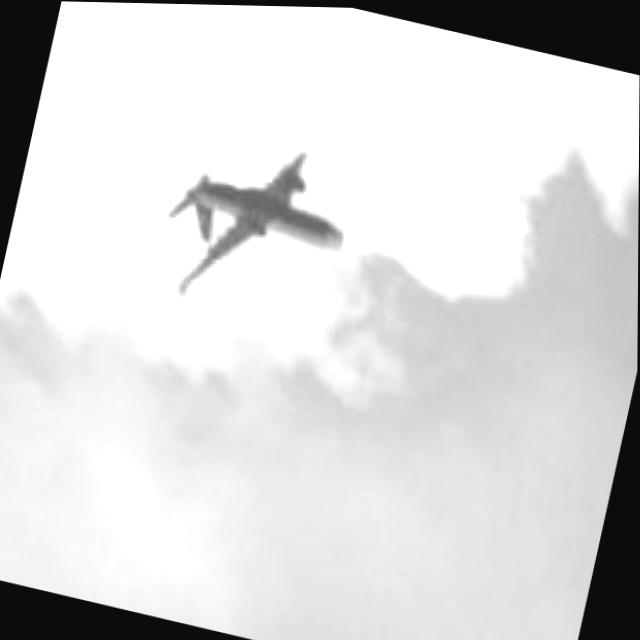aeroplane: (123, 98, 384, 350)
